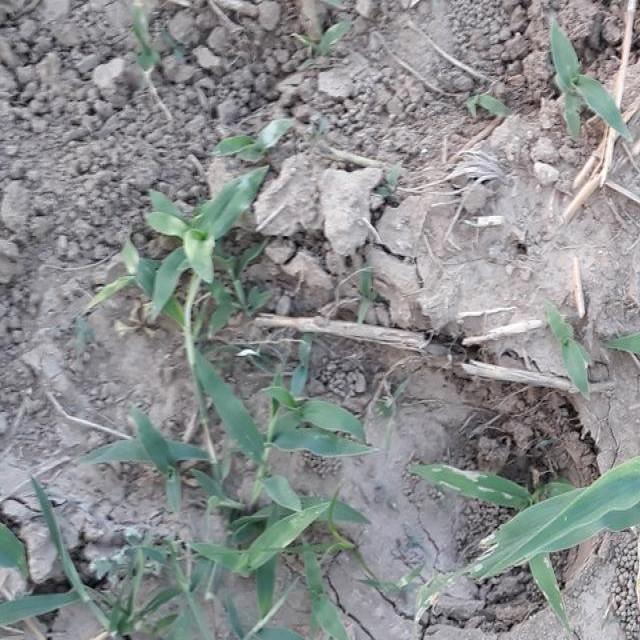weed: (131, 153, 355, 640)
